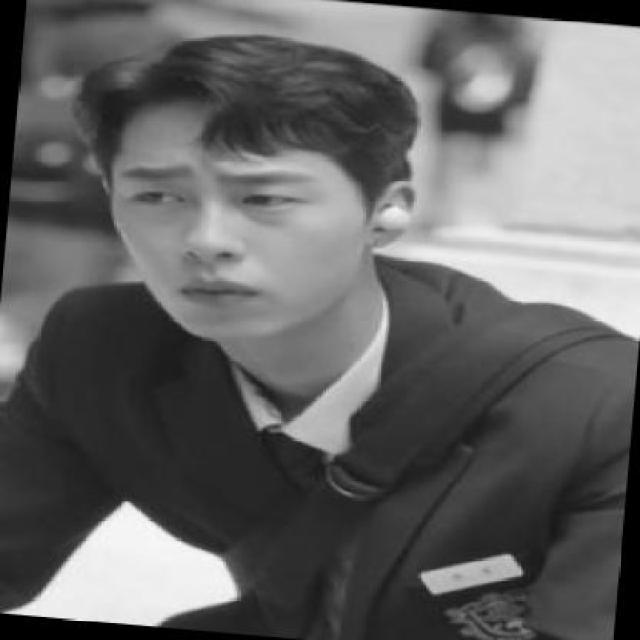earphone: (361, 190, 421, 244)
